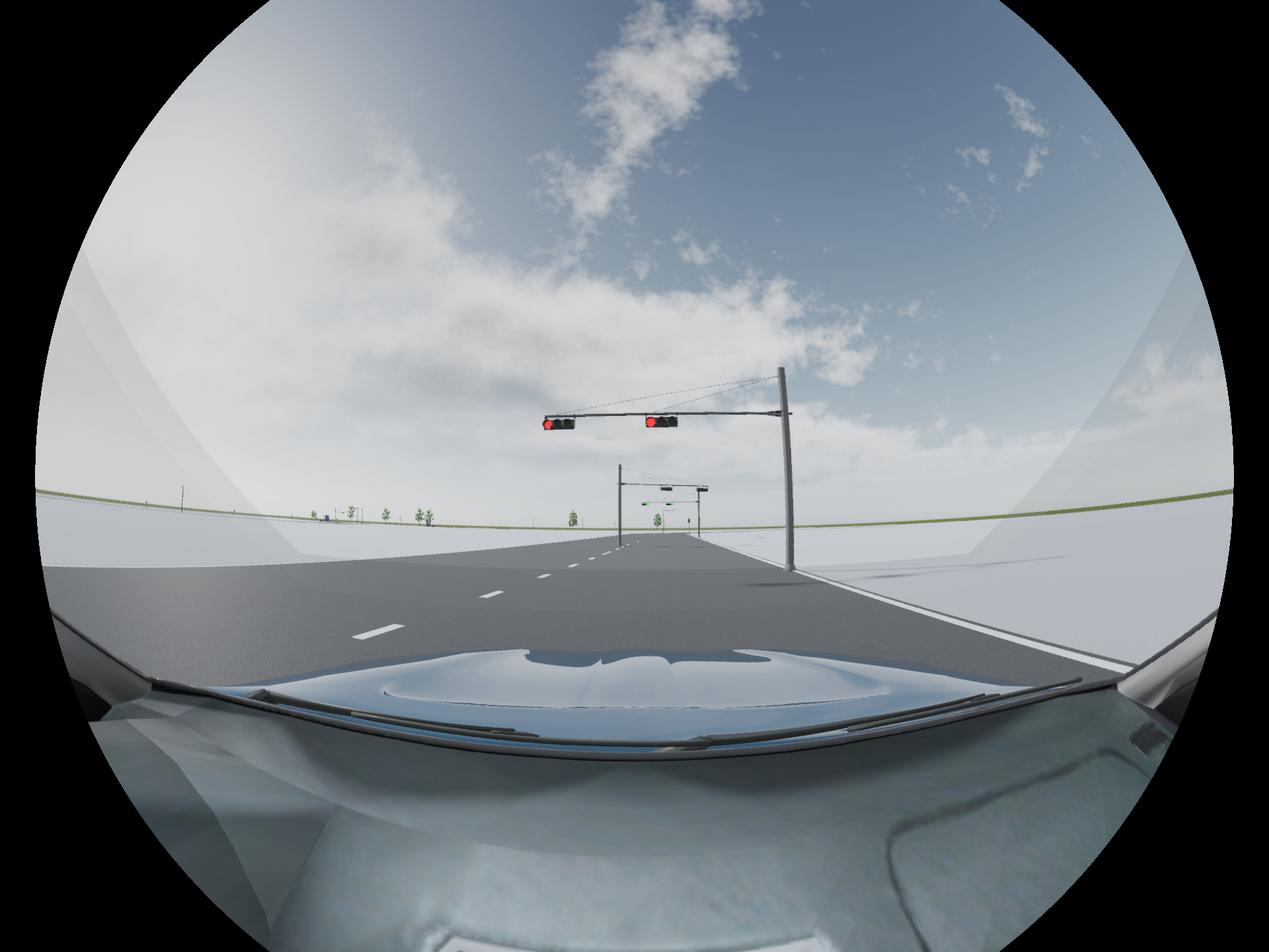Red Light: (543, 417, 577, 433), (645, 416, 680, 429)
